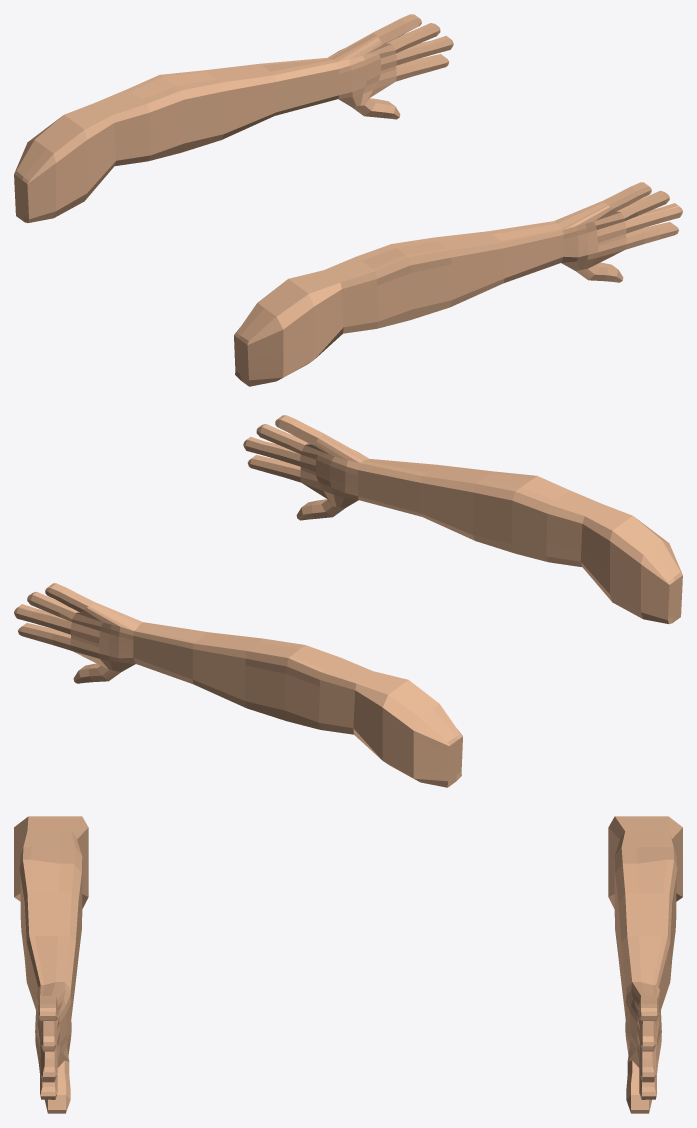
Rendered from ArmsHands.fbx.
The picture shows the model from 3 angles, top to bottom: view 1: azimuth 30°, elevation 25°; view 2: azimuth 150°, elevation 25°; view 3: azimuth 270°, elevation 25°; orthographic projection. The views are drawn at different scales.
Visible parts, largest first — view 1: Cube; view 2: Cube; view 3: Cube.
Boxes of the visible parts, left/top/right/bottom form: Cube: left=14, top=14, right=682, bottom=386; Cube: left=14, top=415, right=682, bottom=787; Cube: left=14, top=816, right=682, bottom=1113.
Bounding box in the file's own units: 477 × 109 × 485.
